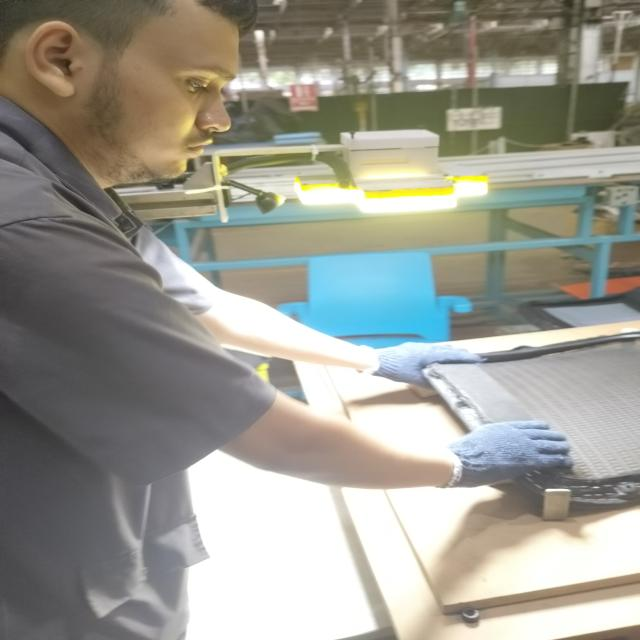Gloves-Detection: (437, 421, 588, 487), (366, 340, 466, 384)
